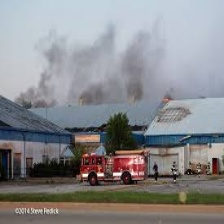smoke: (12, 44, 143, 101)
